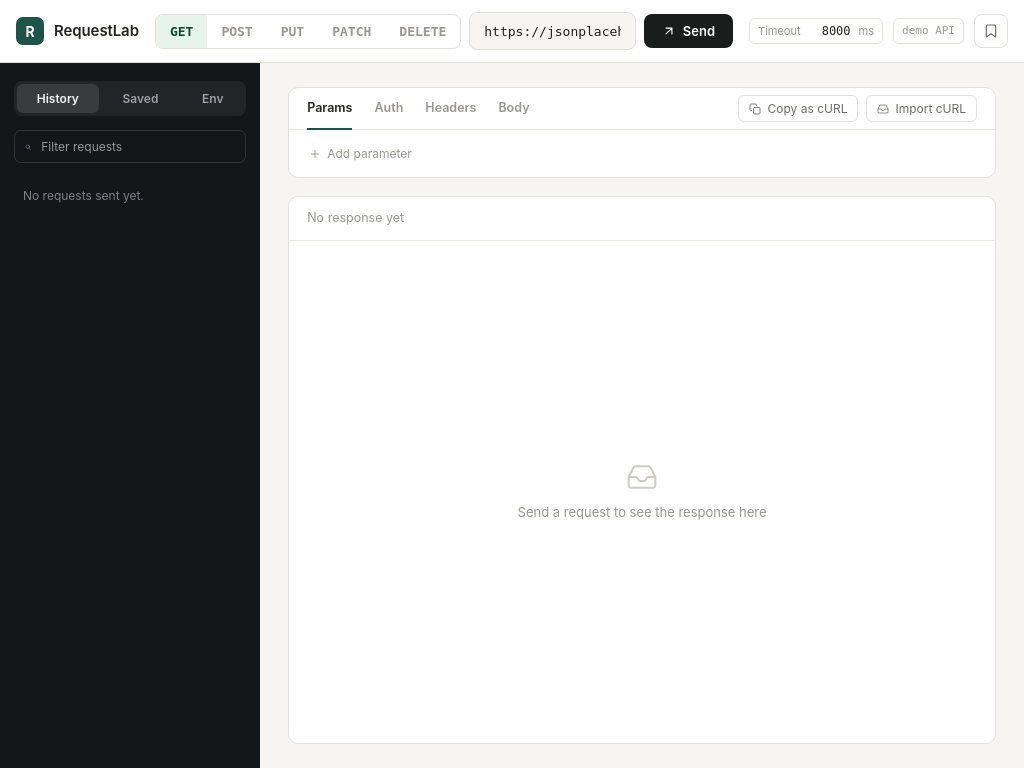
Test: App › sends the default request and renders a formatted success response
The image size is (1024, 768).
Click the button "Send". click: [688, 31]
box: 644,14 -> 733,48
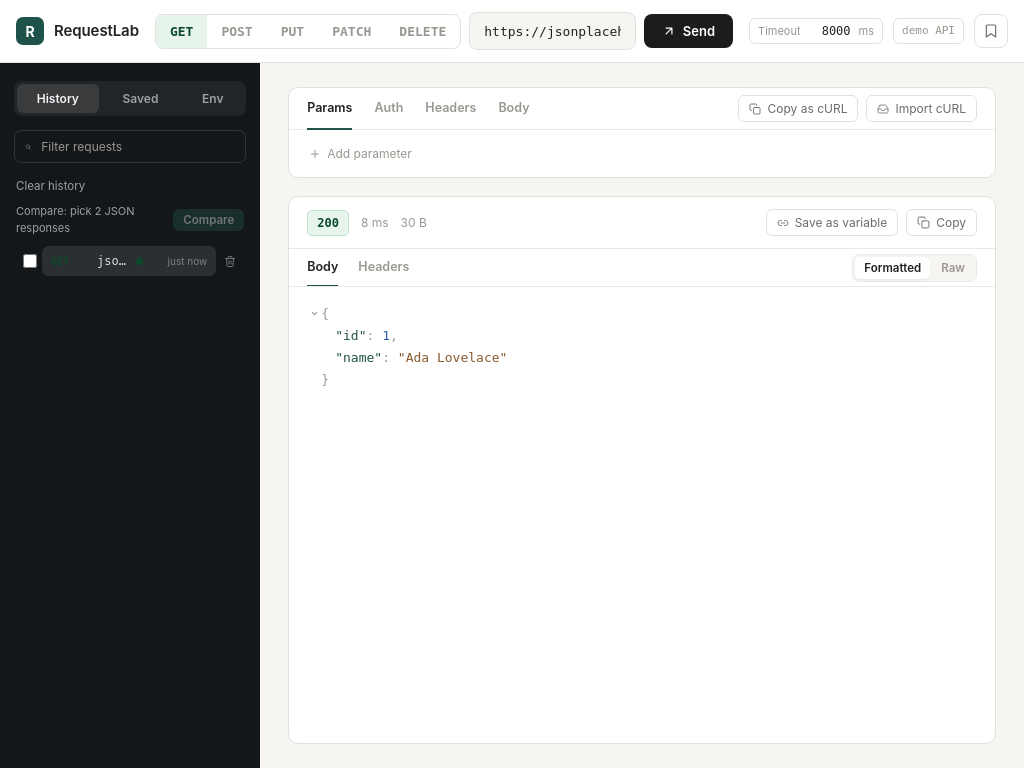
Expected: the text "\"Ada Lovelace\"" is shown, 398,347 -> 507,369
